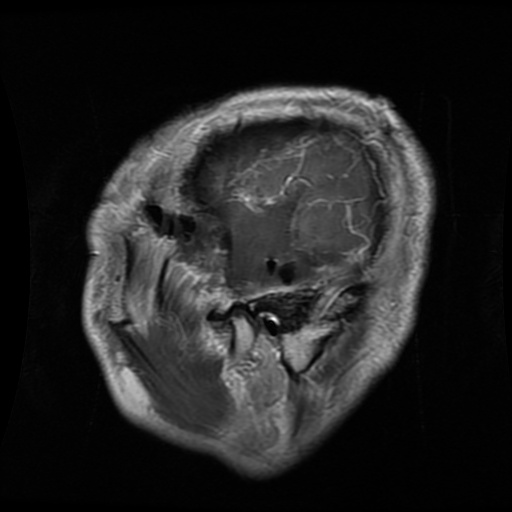glioma: (212, 184, 349, 285)
